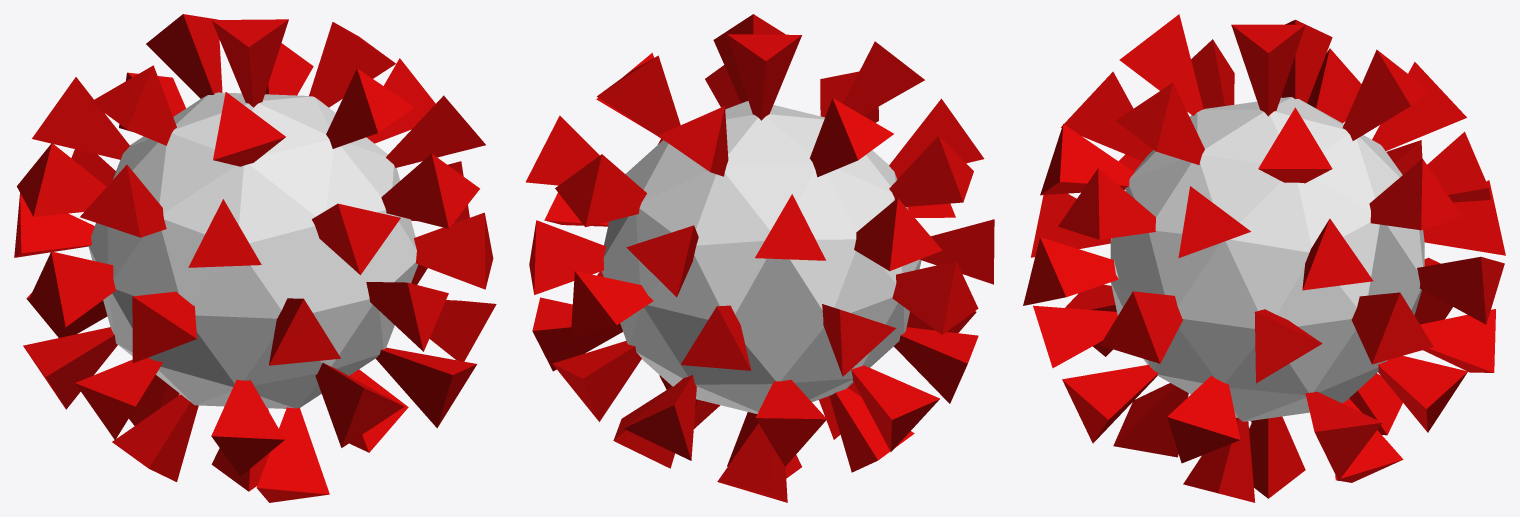
File: Covid19v2.glb
3 renders of one model, left to right at view 1: azimuth 30°, elevation 25°; view 2: azimuth 150°, elevation 25°; view 3: azimuth 270°, elevation 25°, orthographic. The views are drawn at different scales.
Visible parts, largest first — view 1: Covid19.obj.001; view 2: Covid19.obj.001; view 3: Covid19.obj.001.
Boxes of the visible parts, x1,y1,x2,y2 form: Covid19.obj.001: (14, 14, 496, 502); Covid19.obj.001: (526, 14, 994, 502); Covid19.obj.001: (1023, 14, 1505, 502).
Size of the model in its own units: 2.69 by 2.74 by 2.69.
